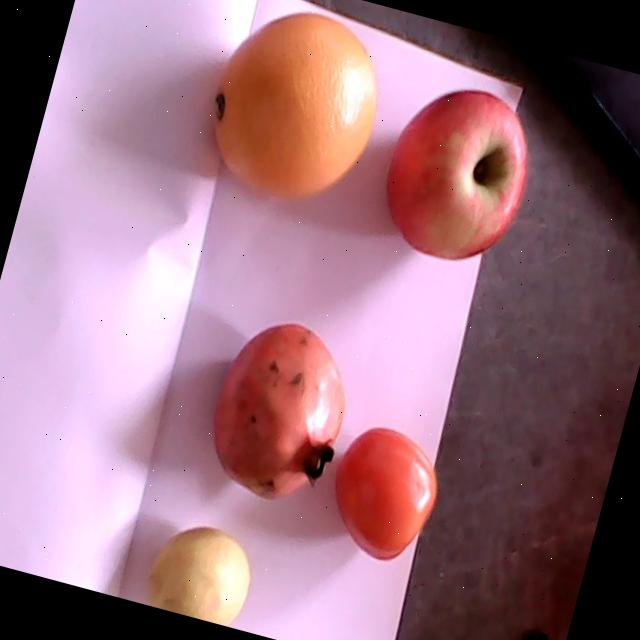apple: (387, 89, 528, 261)
lemon: (147, 526, 251, 626)
orange: (213, 14, 376, 198)
pomegranate: (212, 323, 345, 502)
tomato: (335, 427, 438, 560)
